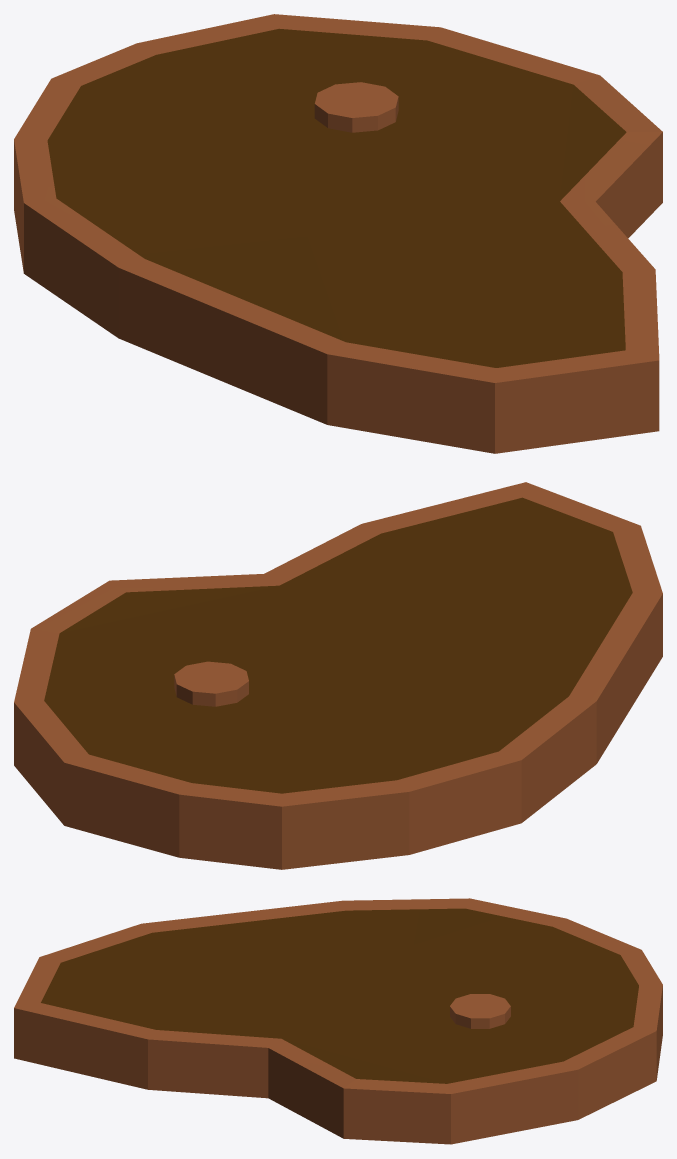
The model's file is Cooked Steak_3.fbx.
3 views of the same model, one above another, from view 1: azimuth 30°, elevation 25°; view 2: azimuth 150°, elevation 25°; view 3: azimuth 270°, elevation 25° (orthographic). The views are drawn at different scales.
Parts seen in each view (by area): view 1: Cooked Steak_3; view 2: Cooked Steak_3; view 3: Cooked Steak_3.
Boxes of the visible parts, <box> form: Cooked Steak_3: <box>14,14,662,453</box>; Cooked Steak_3: <box>14,482,662,869</box>; Cooked Steak_3: <box>14,898,662,1144</box>.
Bounding box in the file's own units: 36.74 × 6.33 × 51.5.
